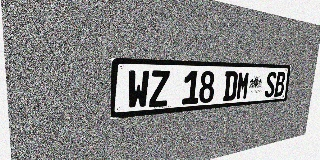1: (182, 71, 200, 105)
8: (198, 71, 216, 103)
B: (274, 72, 286, 97)
D: (223, 71, 238, 101)
M: (236, 71, 250, 100)
S: (264, 72, 277, 98)
W: (127, 70, 150, 109)
Z: (149, 70, 170, 108)
